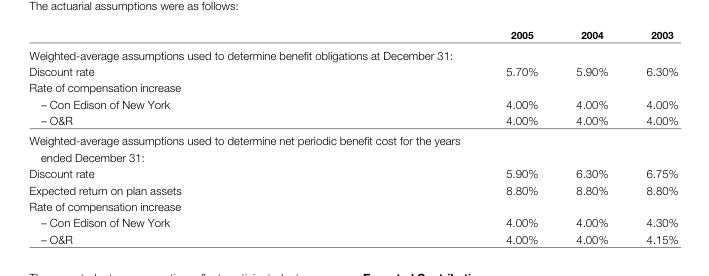table: (28, 28, 677, 245)
table column: (28, 28, 342, 245), (342, 28, 556, 245), (556, 28, 626, 245), (626, 28, 677, 245)
table column header: (28, 28, 677, 44)
table projected row header: (28, 130, 677, 164), (28, 44, 677, 62), (28, 78, 677, 95), (28, 197, 677, 213)
table row: (28, 130, 677, 164), (28, 111, 677, 130), (28, 44, 677, 62), (28, 78, 677, 95), (28, 164, 677, 181), (28, 213, 677, 230), (28, 28, 677, 44), (28, 62, 677, 78), (28, 95, 677, 111), (28, 181, 677, 197), (28, 197, 677, 213), (28, 230, 677, 245)
